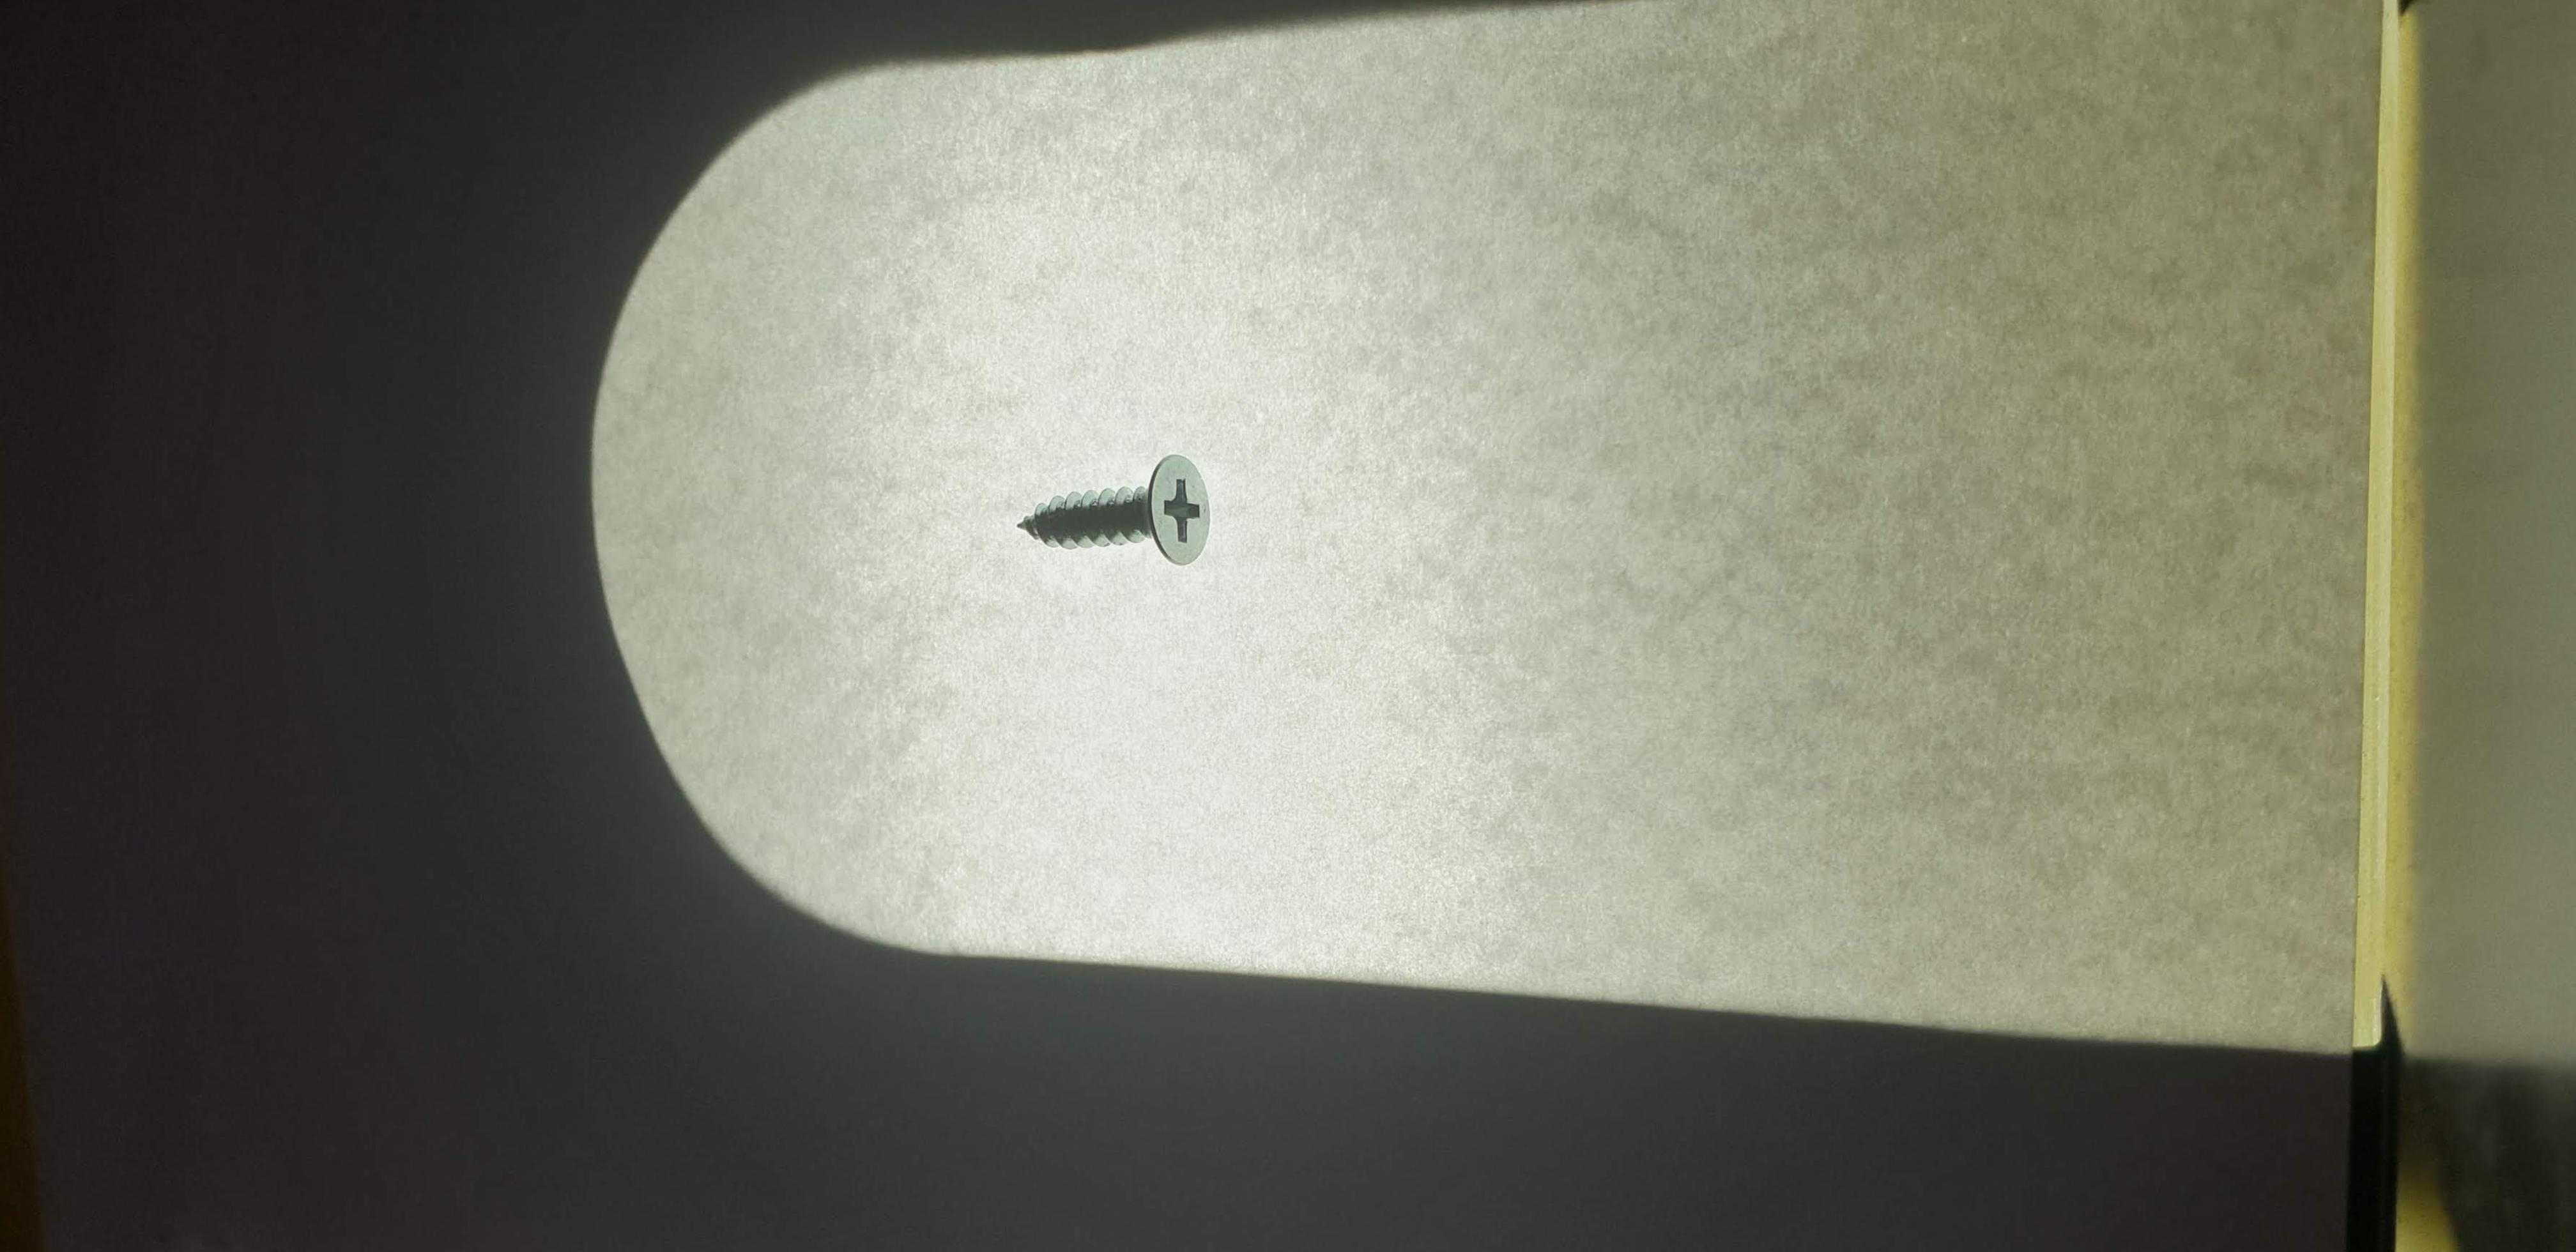S003: (1001, 427, 1237, 590)
